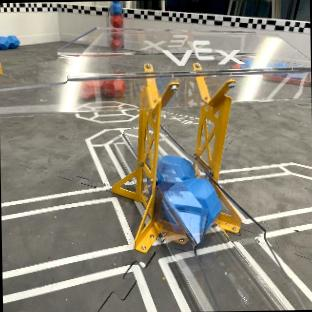V5_BLUE: (156, 155, 193, 182), (0, 34, 19, 49)
V5_RED: (101, 79, 125, 96), (80, 81, 96, 98)
